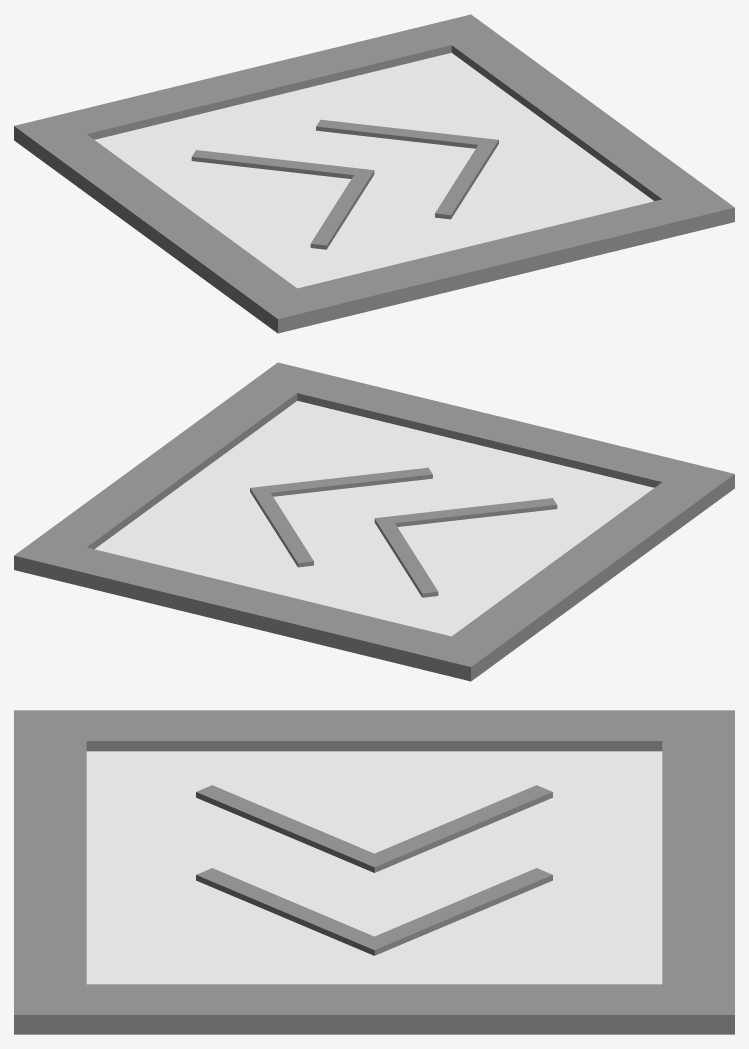
The model's file is jumppad_gray.fbx.
The picture shows the model from 3 angles, top to bottom: view 1: azimuth 30°, elevation 25°; view 2: azimuth 150°, elevation 25°; view 3: azimuth 270°, elevation 25°; orthographic projection. The views are drawn at different scales.
Visible parts, largest first — view 1: Mesh; view 2: Mesh; view 3: Mesh.
Part boxes in pixels (x1,y1,x2,y2): Mesh: (14,14,734,333); Mesh: (14,362,734,681); Mesh: (14,710,734,1034).
Bounding box in the file's own units: 1 × 0.0302 × 1.
